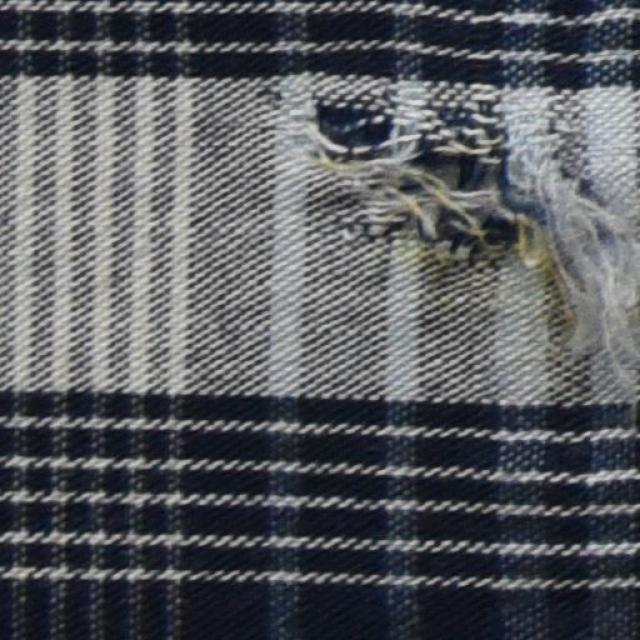Hole: (428, 150, 479, 200)
Snag: (498, 111, 639, 344), (312, 103, 424, 215)
Stain: (406, 199, 581, 335)
